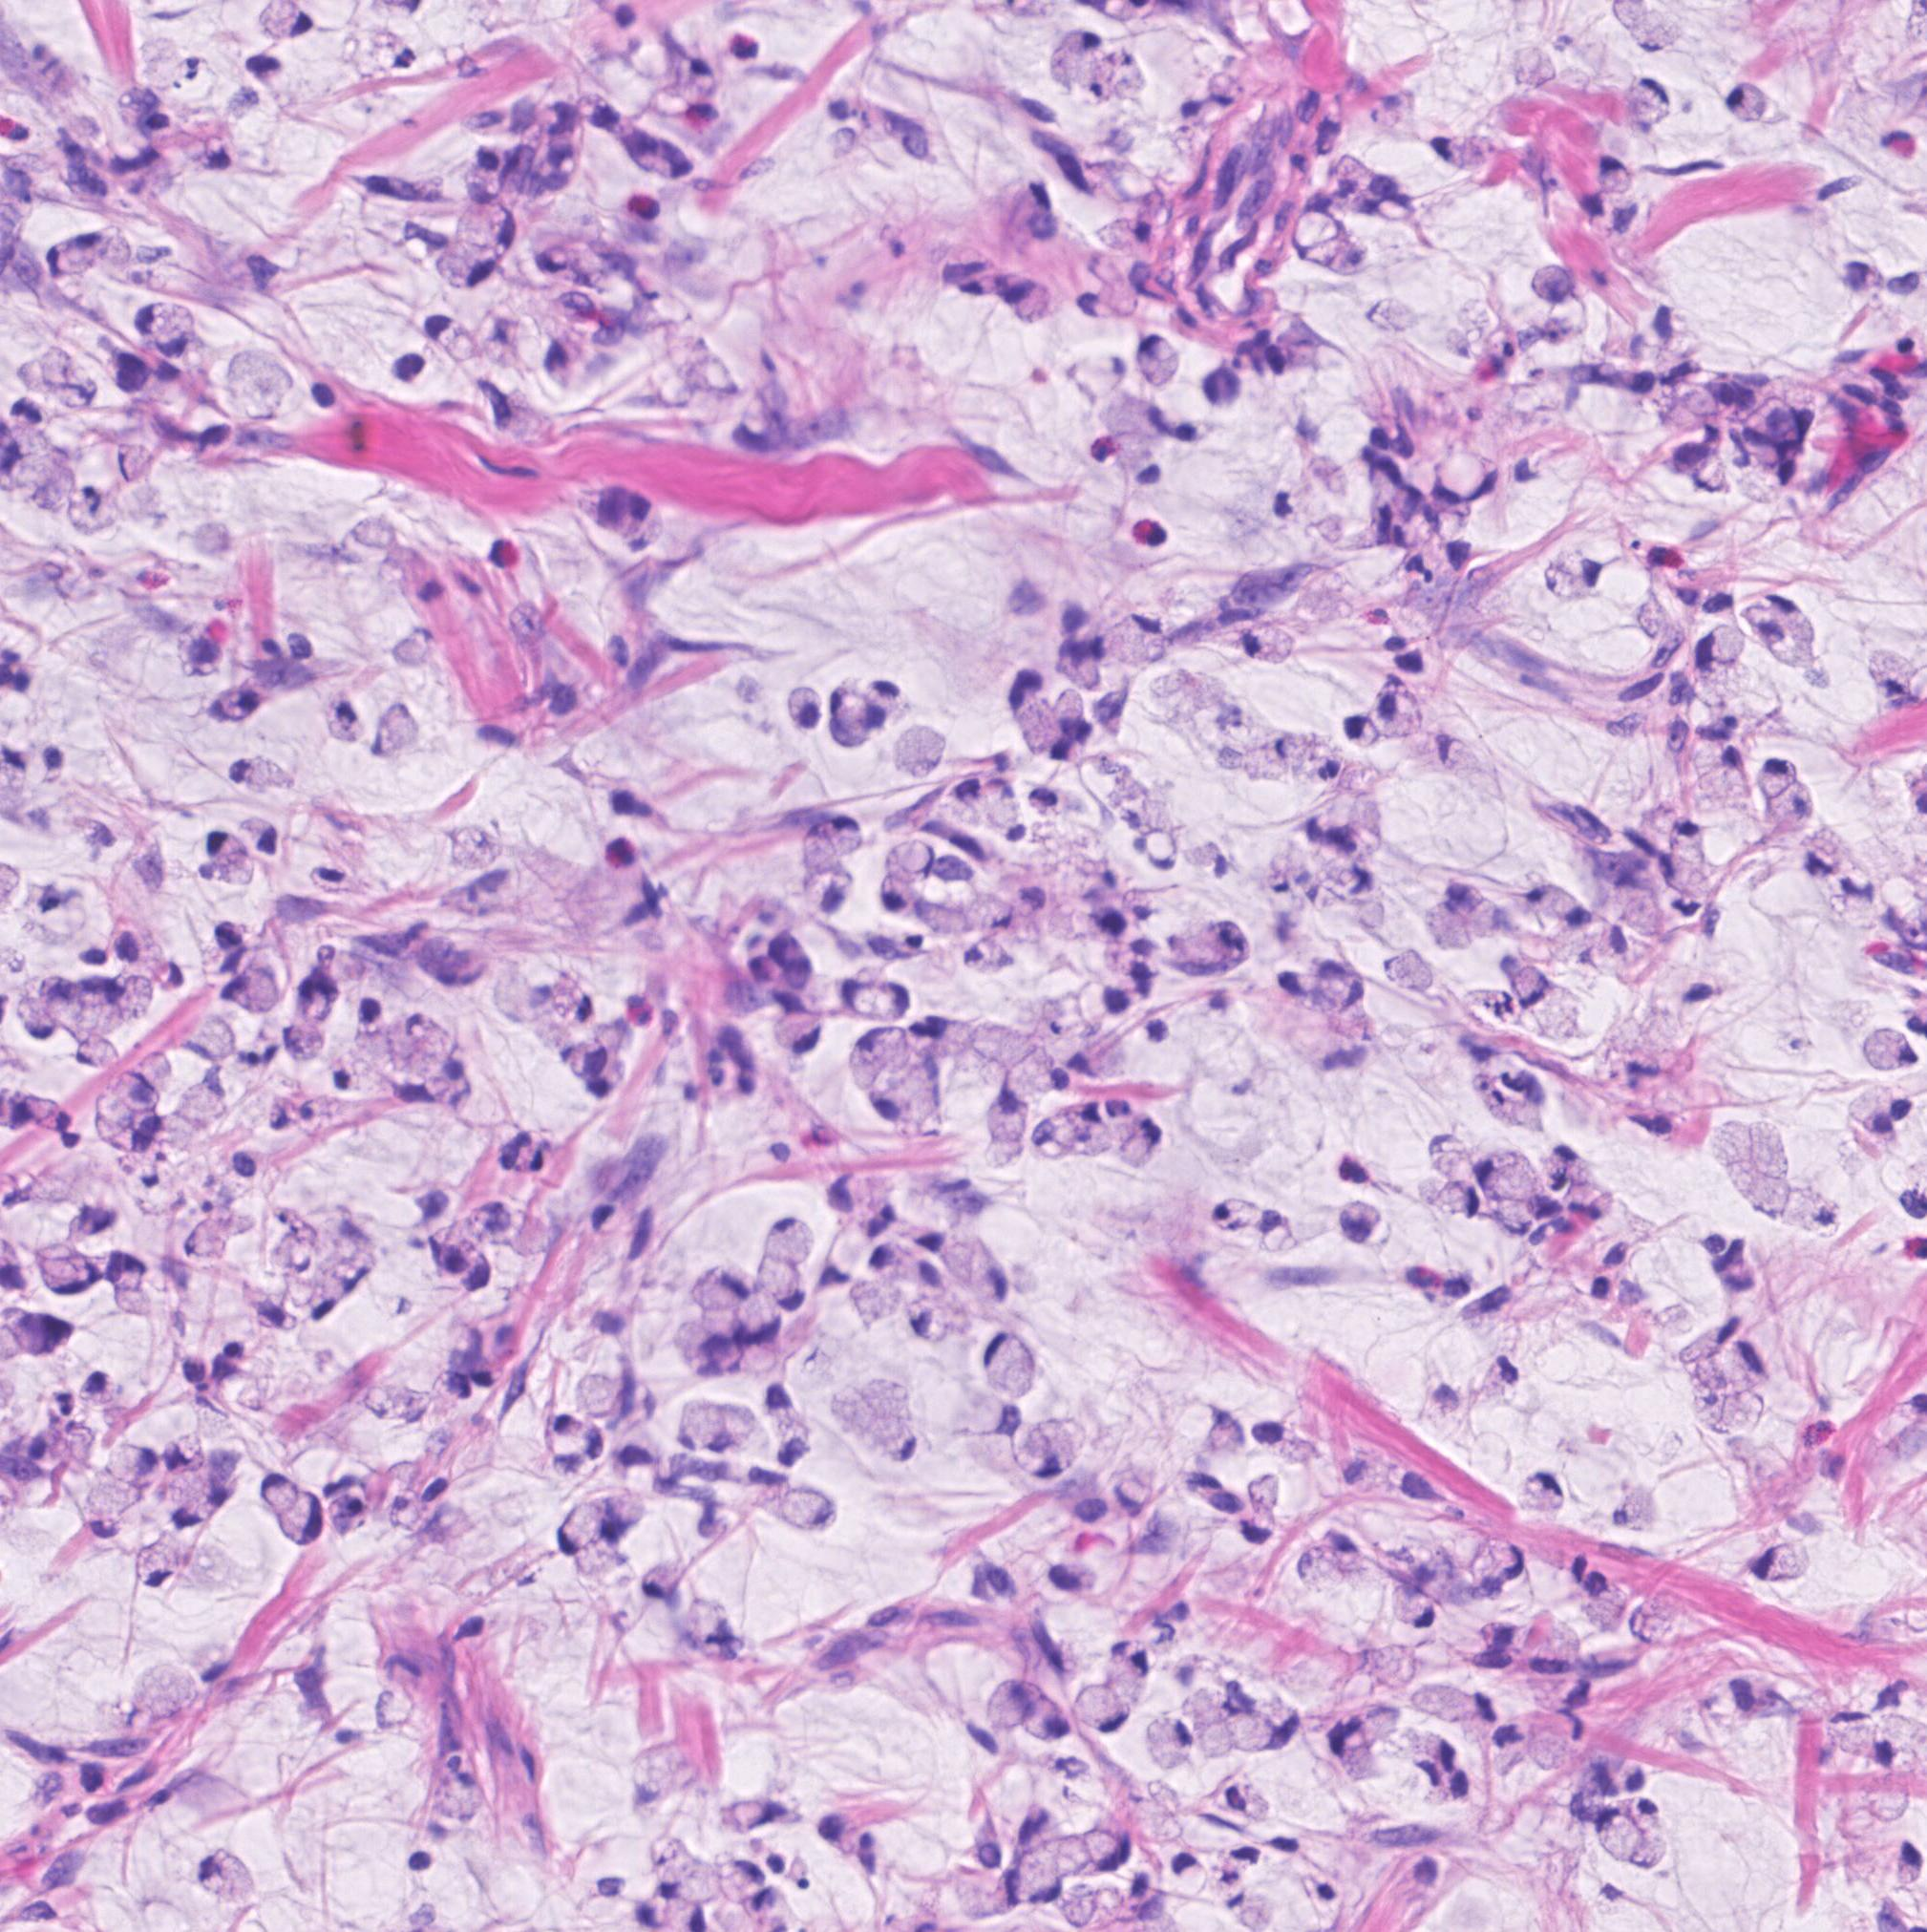ring_cell_cancer: (840, 1383, 921, 1466), (1743, 598, 1819, 672), (1004, 1846, 1092, 1906), (1015, 1417, 1089, 1479), (316, 1221, 378, 1288), (981, 1332, 1039, 1403), (1410, 1680, 1495, 1727), (356, 993, 409, 1069), (681, 1397, 752, 1452), (1698, 1341, 1768, 1396), (394, 1015, 457, 1075), (1050, 25, 1105, 94), (1253, 1415, 1322, 1470), (1470, 1150, 1541, 1203), (1008, 1046, 1068, 1108), (1170, 923, 1248, 970), (849, 1027, 907, 1089), (1548, 905, 1608, 963), (1103, 610, 1166, 665), (44, 976, 99, 1039), (1006, 688, 1055, 757), (457, 201, 515, 258), (1433, 132, 1507, 176), (328, 1048, 395, 1096), (1692, 739, 1749, 796), (1546, 545, 1601, 603), (235, 78, 281, 146), (985, 1676, 1043, 1729), (803, 815, 865, 865), (1781, 1189, 1842, 1239), (353, 34, 418, 79), (1106, 1639, 1152, 1704), (904, 1016, 974, 1059), (1470, 1537, 1528, 1588), (826, 1172, 898, 1212), (1108, 395, 1172, 441), (556, 1498, 607, 1554), (912, 1288, 971, 1337), (369, 704, 422, 757), (205, 829, 254, 886), (138, 1531, 187, 1588), (694, 1263, 754, 1309), (226, 753, 293, 794), (196, 1849, 249, 1900), (762, 1216, 817, 1265), (761, 1385, 810, 1440), (1631, 1593, 1685, 1643), (664, 1846, 713, 1900), (1241, 741, 1304, 783), (44, 1251, 102, 1297), (1593, 930, 1652, 976), (1096, 217, 1158, 259), (1368, 688, 1422, 736), (296, 1265, 344, 1320), (1075, 1683, 1129, 1731), (56, 233, 124, 272), (780, 1486, 836, 1531), (1593, 1812, 1641, 1865), (1532, 1623, 1585, 1671), (1597, 199, 1650, 247), (1230, 1708, 1285, 1754), (1832, 1706, 1878, 1761), (134, 303, 196, 344), (829, 688, 872, 746), (859, 681, 907, 732), (275, 1496, 326, 1544), (425, 316, 480, 360), (1242, 619, 1297, 663), (1295, 1547, 1350, 1591), (674, 51, 716, 108), (1863, 1027, 1920, 1069), (1629, 11, 1685, 53), (1581, 1569, 1622, 1627), (547, 976, 596, 1023), (1869, 651, 1918, 699), (184, 1209, 229, 1260), (985, 1090, 1031, 1142), (1136, 333, 1181, 386), (1057, 639, 1101, 692), (956, 896, 1016, 935), (226, 969, 281, 1011), (441, 243, 498, 284), (1756, 1544, 1812, 1584), (1849, 1083, 1897, 1131), (86, 979, 125, 1037), (176, 1082, 229, 1124), (971, 1246, 1008, 1306), (1435, 898, 1475, 953), (1122, 1113, 1161, 1170), (775, 1007, 822, 1053), (716, 1860, 766, 1904), (1345, 1443, 1394, 1487), (1699, 623, 1751, 665), (1491, 1720, 1528, 1778), (108, 1449, 161, 1489), (889, 838, 934, 886), (1022, 1697, 1069, 1741), (1149, 1720, 1193, 1768), (111, 970, 154, 1020), (1396, 1579, 1438, 1629), (1666, 819, 1708, 868), (182, 1022, 233, 1062), (155, 337, 210, 374), (261, 2, 311, 42), (1525, 886, 1578, 923), (1611, 1496, 1664, 1533), (1080, 1830, 1126, 1872), (1627, 79, 1669, 125), (113, 1071, 161, 1112), (1435, 1179, 1482, 1219), (1807, 827, 1848, 875), (785, 683, 824, 732), (1507, 967, 1551, 1009), (1327, 1530, 1368, 1576), (641, 1558, 690, 1595), (1722, 85, 1766, 125), (1519, 1471, 1563, 1512), (1754, 757, 1798, 796), (1766, 782, 1811, 820), (76, 1034, 122, 1071), (254, 1473, 300, 1510), (1052, 686, 1087, 734), (325, 704, 365, 745), (1237, 1505, 1279, 1544), (1429, 1129, 1466, 1173), (1549, 1145, 1588, 1186), (116, 445, 154, 482), (1627, 1796, 1666, 1831), (1601, 155, 1636, 192), (238, 819, 277, 852)
